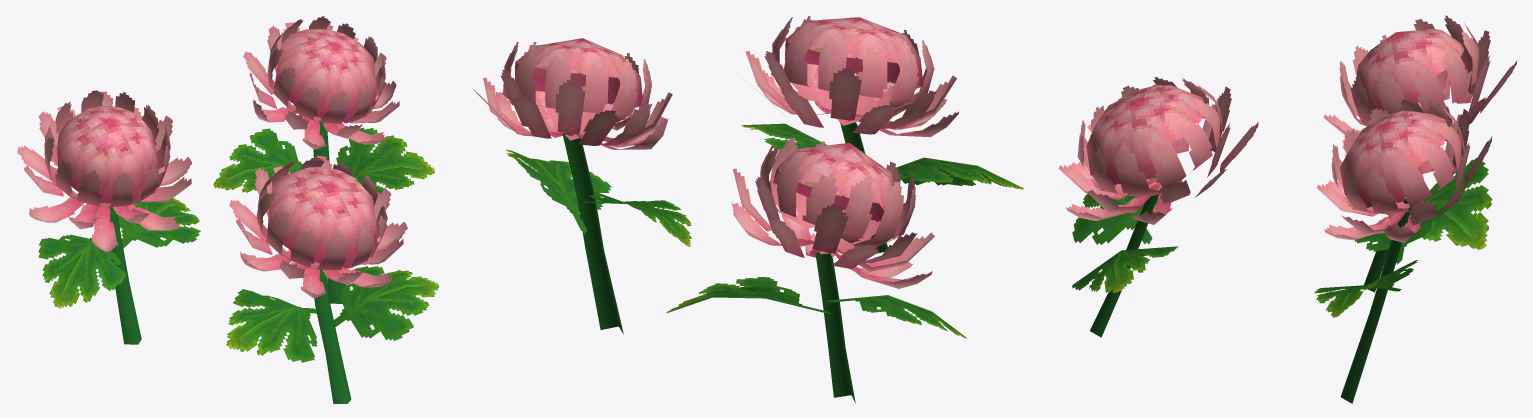
The model's file is pink-mums.glb.
The picture shows the model from 3 angles, left to right: view 1: azimuth 30°, elevation 25°; view 2: azimuth 150°, elevation 25°; view 3: azimuth 270°, elevation 25°; orthographic projection. The views are drawn at different scales.
Size of the model in its own units: 9.99 by 6.47 by 9.28.
2 materials, 2 textured.
